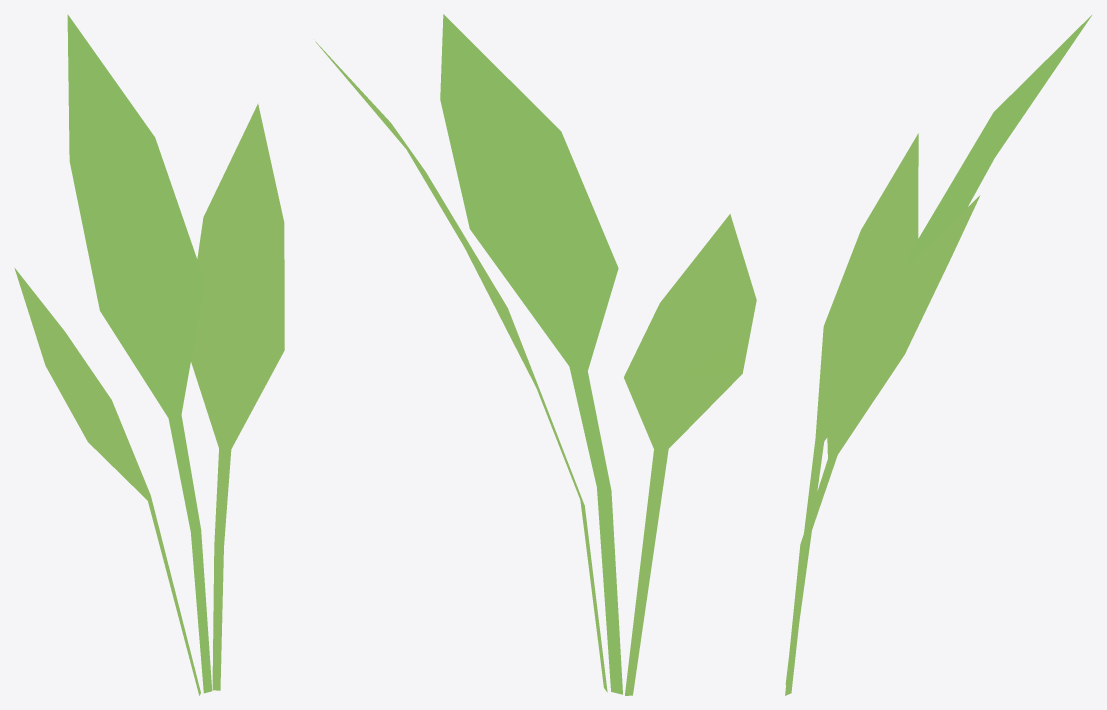
File: Plant_g_TwoS_03.fbx
3 views of the same model, side by side, from view 1: azimuth 30°, elevation 25°; view 2: azimuth 150°, elevation 25°; view 3: azimuth 270°, elevation 25° (orthographic). The views are drawn at different scales.
Parts seen in each view (by area): view 1: Plant_g_TwoS_03; view 2: Plant_g_TwoS_03; view 3: Plant_g_TwoS_03.
Boxes of the visible parts, x1,y1,x2,y2 form: Plant_g_TwoS_03: (14, 14, 284, 695); Plant_g_TwoS_03: (315, 14, 756, 695); Plant_g_TwoS_03: (785, 15, 1091, 695).
Size of the model in its own units: 0.2868 by 0.5908 by 0.2455.
